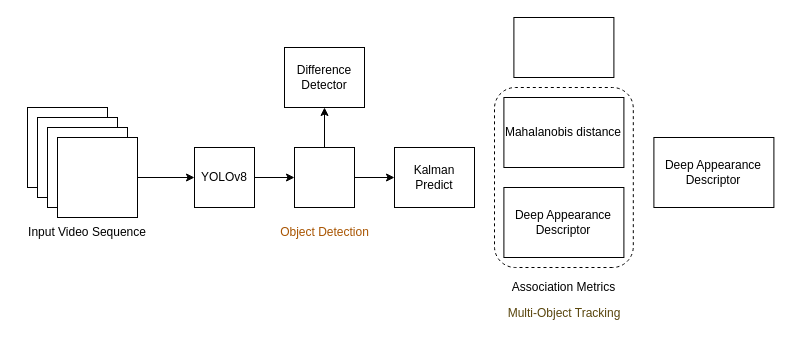
The diagram is 791 pixels wide and 346 high, and some of its shapes have lost their labels. Here are the shapes that lost their labels. From the top down, the box of each, then its label:
(513, 16, 614, 78): Deep SORT
(294, 146, 354, 208): Detection
